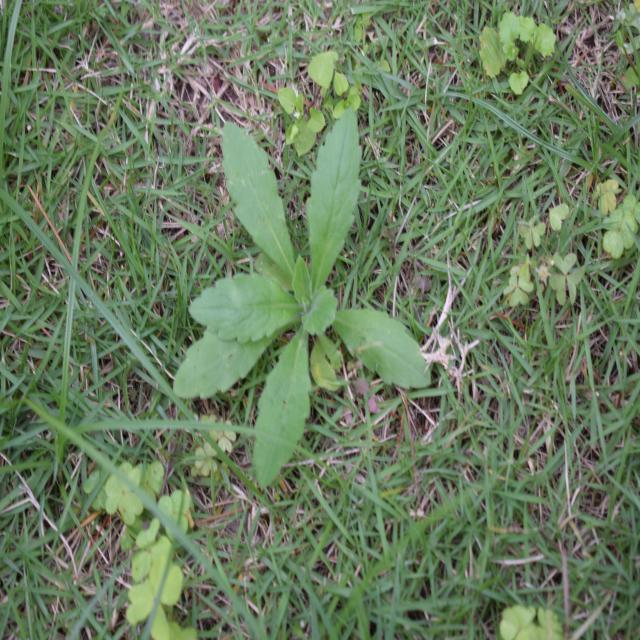horseweed: (181, 136, 413, 460)
